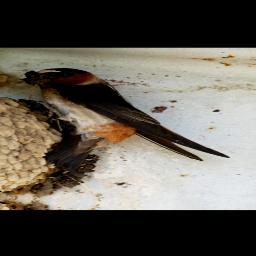Swallow: (0, 66, 256, 164)
